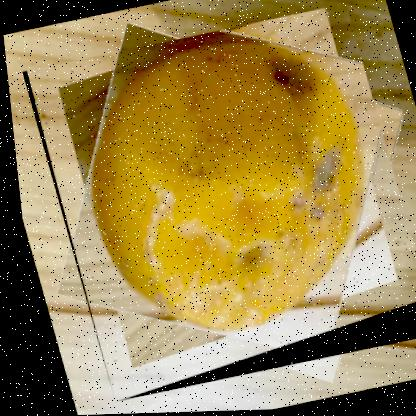orange_rotten: (13, 2, 415, 403)
